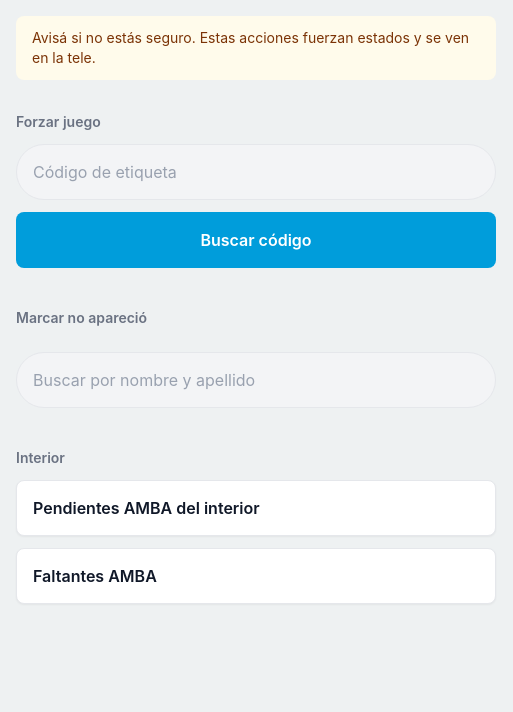
Test case: ToolsPage › shows pending rollback for admins
Type "123" into the search field named "Buscar juego por código" at {"x": 256, "y": 172}, box x1=16 y1=144 x2=496 y2=200
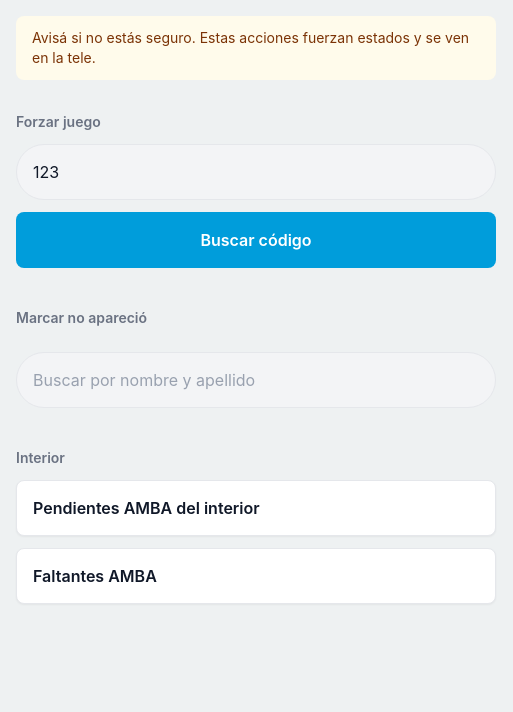
Click the button "Buscar código" at {"x": 256, "y": 240}, box x1=16 y1=212 x2=496 y2=268
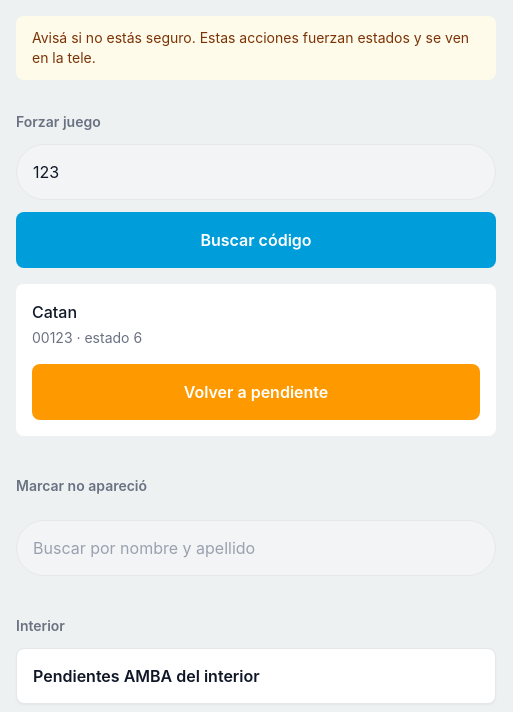
Expected: the button "Volver a pendiente" is shown, x1=32 y1=364 x2=480 y2=420
